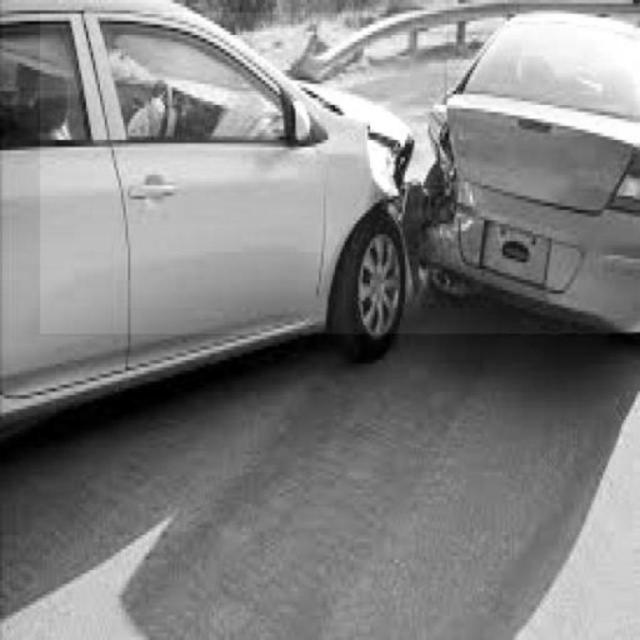accident: (40, 13, 640, 333)
